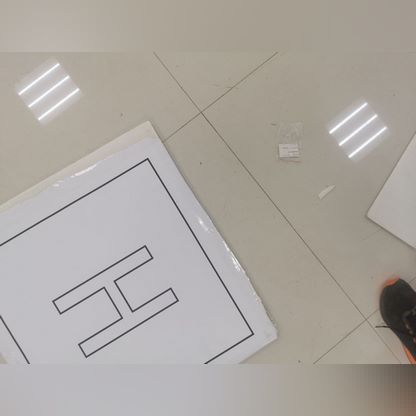H: (40, 219, 188, 373)
